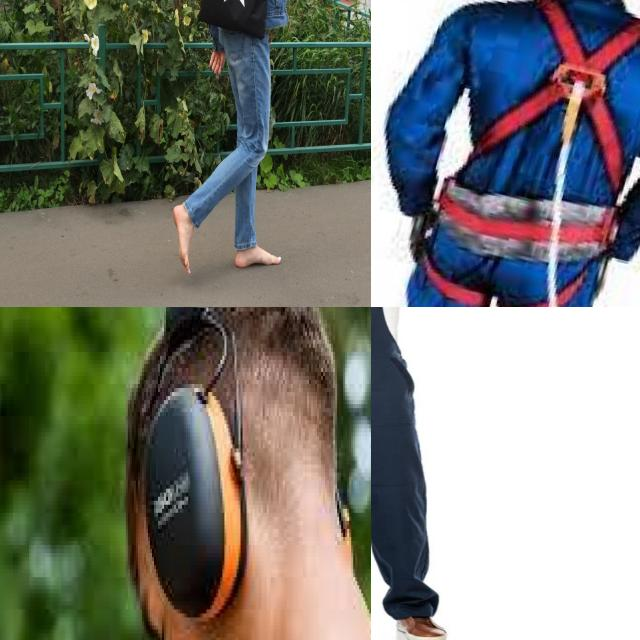Barefoots: (172, 204, 190, 276), (235, 246, 281, 268)
Ear-protection: (137, 307, 354, 603)
Harness: (472, 0, 640, 232)
